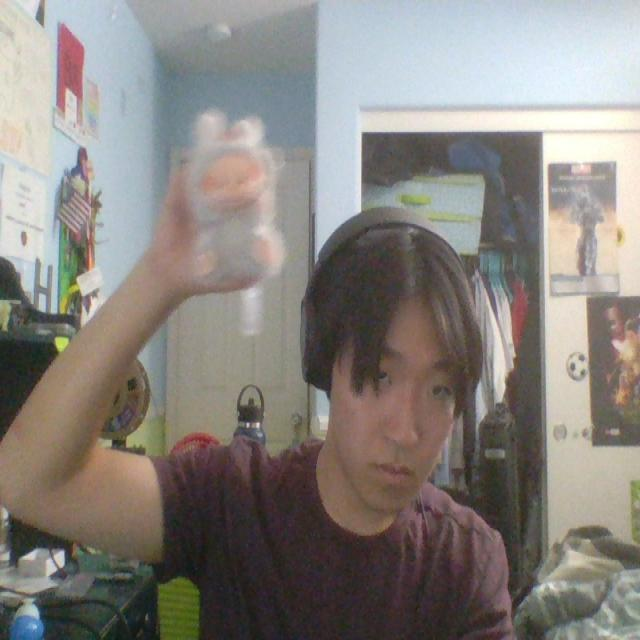labubu: (181, 112, 283, 279)
